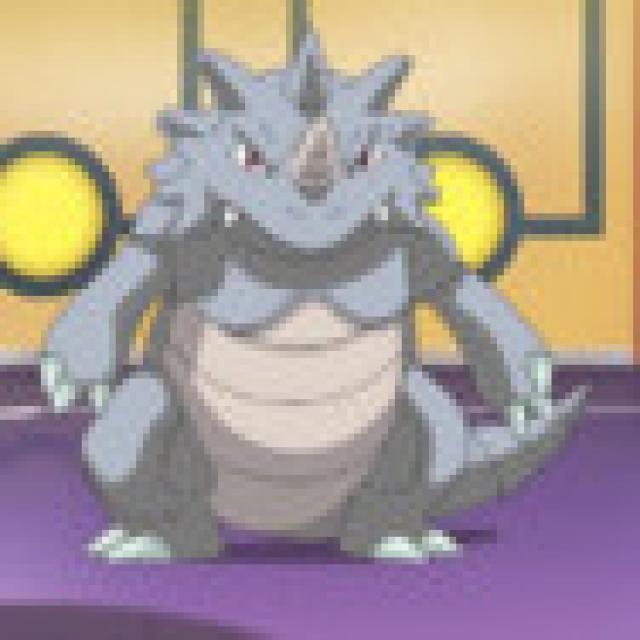Rhydon: (28, 29, 580, 569)
